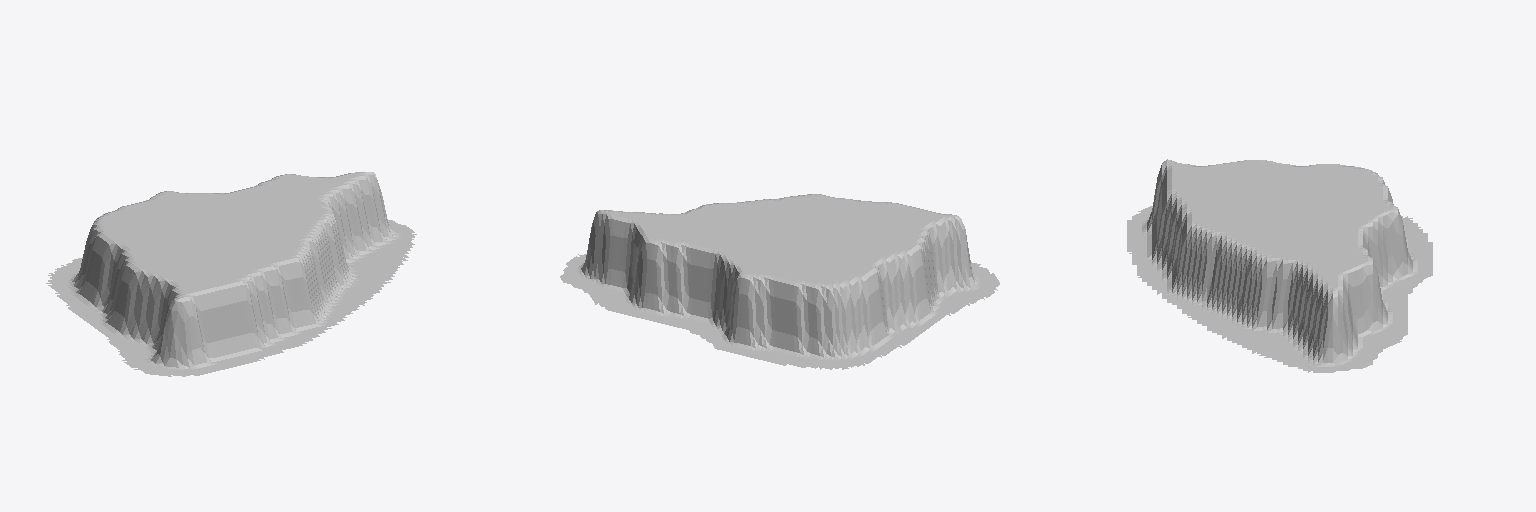
File: mountain4.obj
3 views of the same model, side by side, from view 1: azimuth 30°, elevation 25°; view 2: azimuth 150°, elevation 25°; view 3: azimuth 270°, elevation 25° (orthographic).
Visible parts, largest first — view 1: Plane.004; view 2: Plane.004; view 3: Plane.004.
Boxes of the visible parts, x1=… form: Plane.004: x1=46, y1=172, x2=416, y2=376; Plane.004: x1=560, y1=194, x2=999, y2=369; Plane.004: x1=1127, y1=159, x2=1432, y2=372.
Size of the model in its own units: 182 by 30.93 by 137.